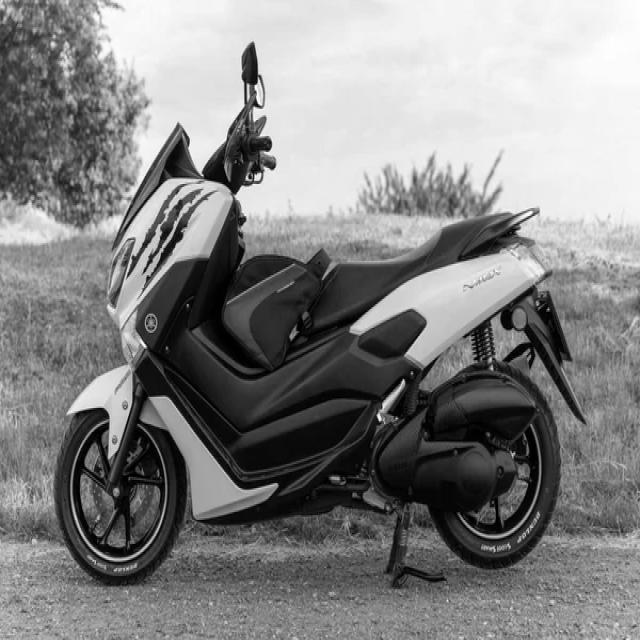Motorcycle: (54, 45, 586, 585)
